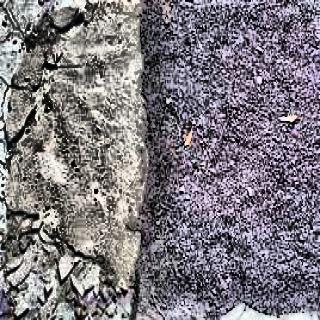crack: (129, 0, 151, 320)
